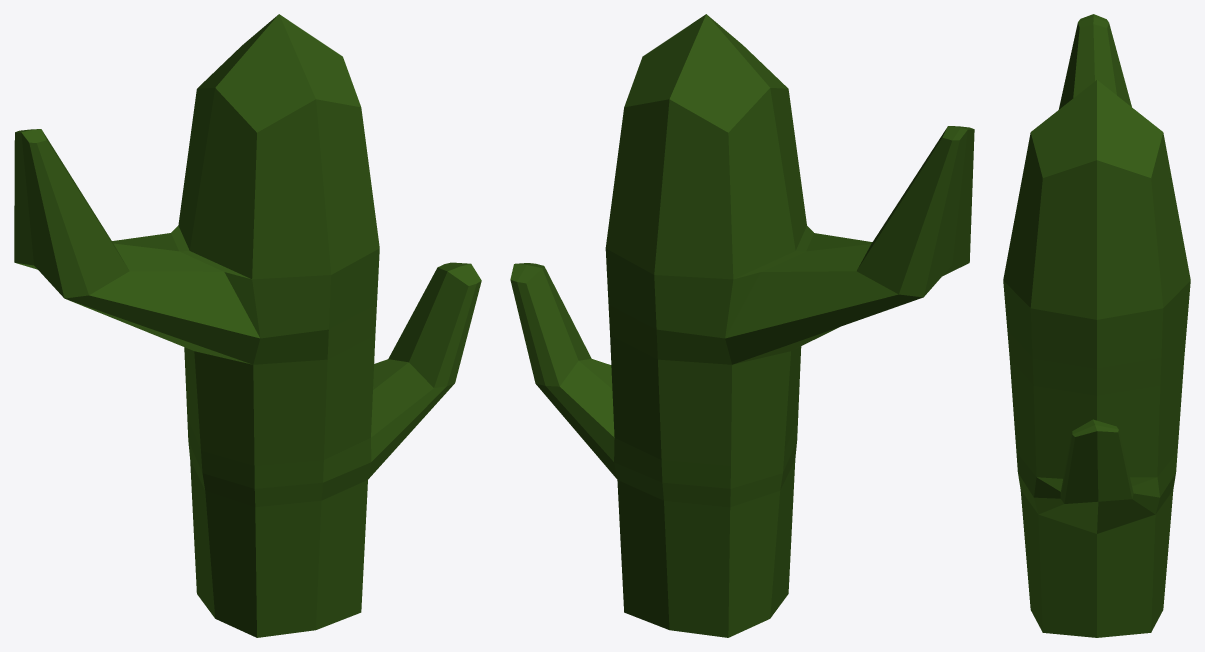
The model's file is Cactus.fbx.
The picture shows the model from 3 angles, left to right: view 1: azimuth 30°, elevation 25°; view 2: azimuth 150°, elevation 25°; view 3: azimuth 270°, elevation 25°; orthographic projection. The views are drawn at different scales.
Visible parts, largest first — view 1: Cactus; view 2: Cactus; view 3: Cactus.
Boxes of the visible parts, box(x1,y1,x2,y2) form: Cactus: box(14, 14, 481, 637); Cactus: box(510, 14, 974, 637); Cactus: box(1003, 14, 1190, 637).
Size of the model in its own units: 351 by 437 by 140.
